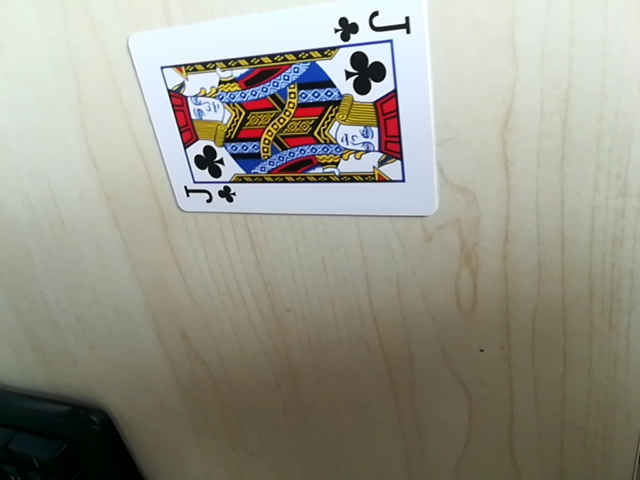mh j: (337, 7, 414, 42), (176, 180, 236, 212)
